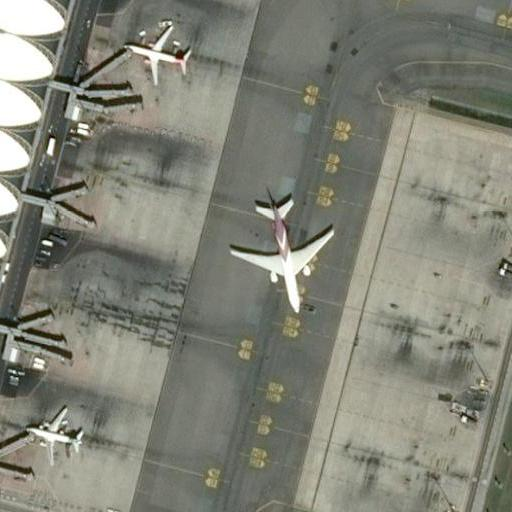Aircraft: (219, 187, 337, 315), (10, 398, 84, 459), (124, 26, 194, 86)
